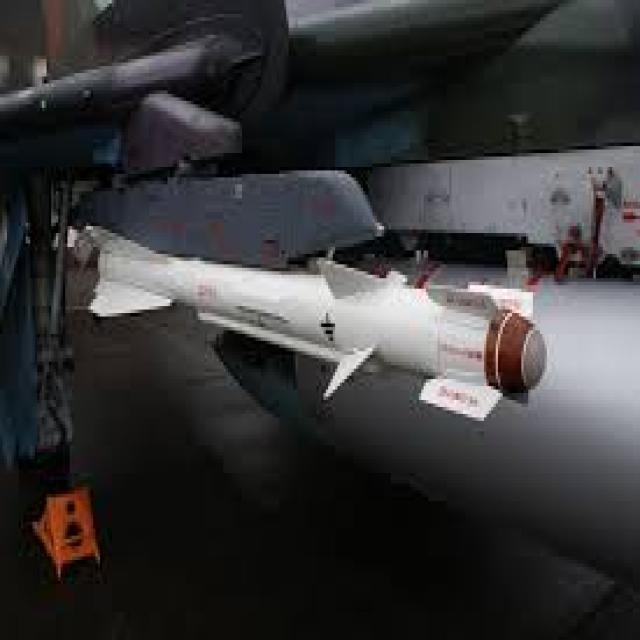missile: (78, 223, 546, 451)
